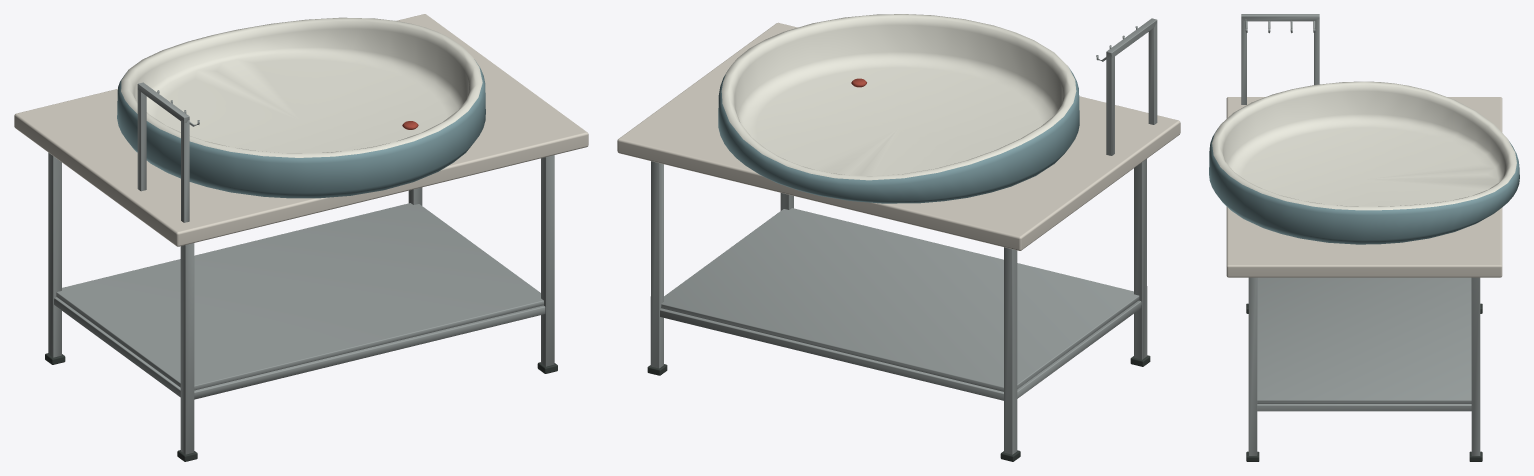
The model's file is tub.glb.
The picture shows the model from 3 angles, left to right: view 1: azimuth 30°, elevation 25°; view 2: azimuth 150°, elevation 25°; view 3: azimuth 270°, elevation 25°; orthographic projection. The views are drawn at different scales.
Parts seen in each view (by area): view 1: Stand, Tub, ToolRack; view 2: Stand, Tub, ToolRack; view 3: Stand, Tub, ToolRack.
Boxes of the visible parts, x1,y1,x2,y2 form: Stand: (14,14,588,461); Tub: (117,17,485,198); ToolRack: (137,82,199,222); Stand: (617,22,1180,461); Tub: (718,14,1079,203); ToolRack: (1096,18,1157,155); Stand: (1226,97,1502,461); Tub: (1209,81,1519,244); ToolRack: (1241,14,1319,104).
Bounding box in the file's own units: 1.6 × 1.29 × 1.24.
